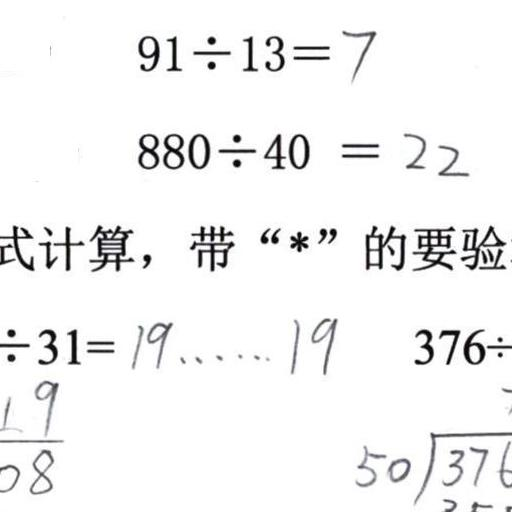ans: (125, 310, 337, 376), (398, 127, 466, 177), (337, 22, 377, 81)
